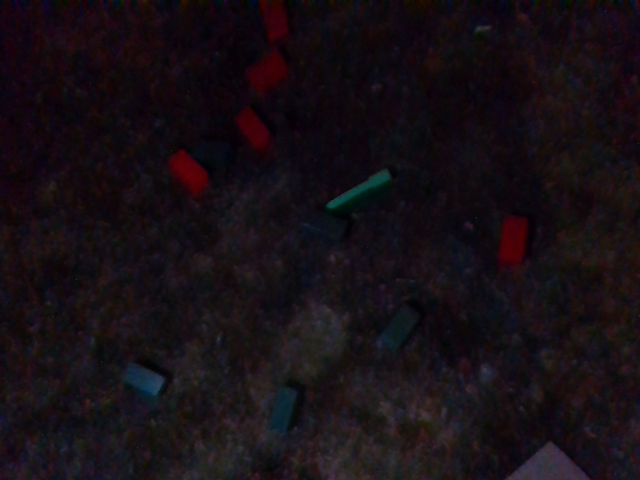Probe: (319, 164, 400, 218)
